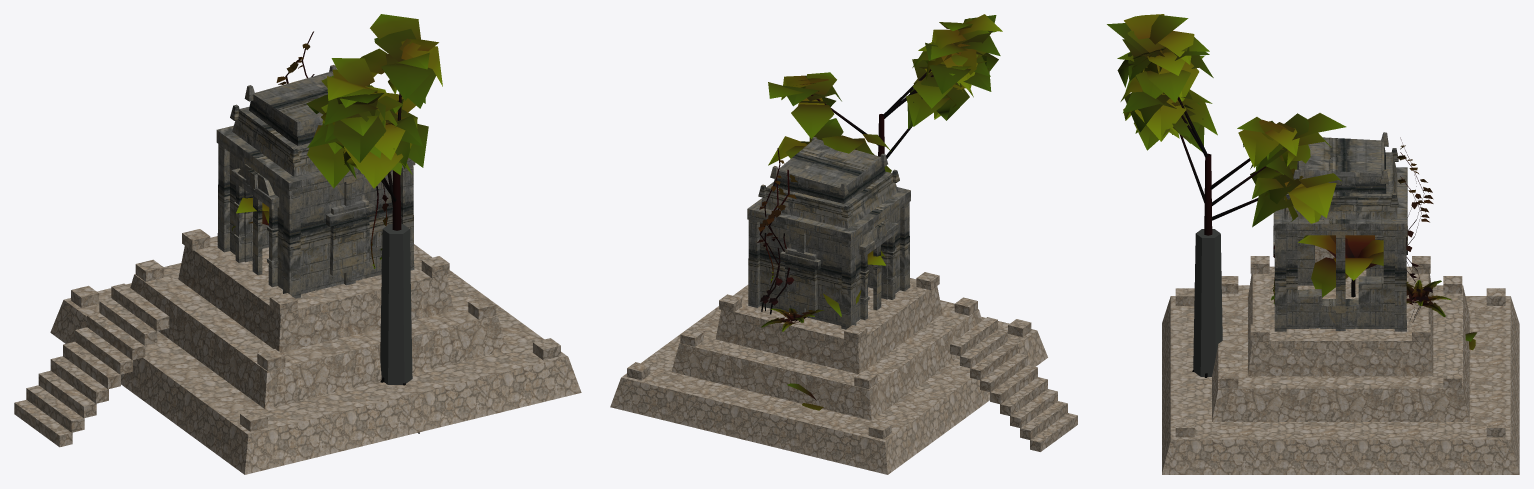
File: prasat_ruin_09.glb
3 views of the same model, side by side, from view 1: azimuth 30°, elevation 25°; view 2: azimuth 150°, elevation 25°; view 3: azimuth 270°, elevation 25° (orthographic). The views are drawn at different scales.
Parts seen in each view (by area): view 1: prasat_ruin_09, prasat_ruin_09_veg_00_broadleaf_b, prasat_ruin_09-col; view 2: prasat_ruin_09, prasat_ruin_09_veg_00_broadleaf_b, prasat_ruin_09_veg_03_trunk_vine_a, prasat_ruin_09_veg_12_fern_c; view 3: prasat_ruin_09, prasat_ruin_09_veg_00_broadleaf_b, prasat_ruin_09-col, prasat_ruin_09_veg_14_banana_a, prasat_ruin_09_veg_12_fern_c.
Part boxes in pixels (<box>): prasat_ruin_09: <box>14,65,581,474</box>; prasat_ruin_09_veg_00_broadleaf_b: <box>306,14,442,433</box>; prasat_ruin_09-col: <box>380,224,412,384</box>; prasat_ruin_09: <box>610,137,1077,474</box>; prasat_ruin_09_veg_00_broadleaf_b: <box>768,14,1002,172</box>; prasat_ruin_09_veg_03_trunk_vine_a: <box>765,169,797,314</box>; prasat_ruin_09_veg_12_fern_c: <box>761,308,823,331</box>; prasat_ruin_09: <box>1162,132,1519,474</box>; prasat_ruin_09_veg_00_broadleaf_b: <box>1107,14,1346,377</box>; prasat_ruin_09-col: <box>1193,229,1222,376</box>; prasat_ruin_09_veg_14_banana_a: <box>1298,235,1383,297</box>; prasat_ruin_09_veg_12_fern_c: <box>1406,280,1450,316</box>.
Bounding box in the file's own units: 12.55 × 10.42 × 10.91.
Materials: 15 (15 with a texture image).
